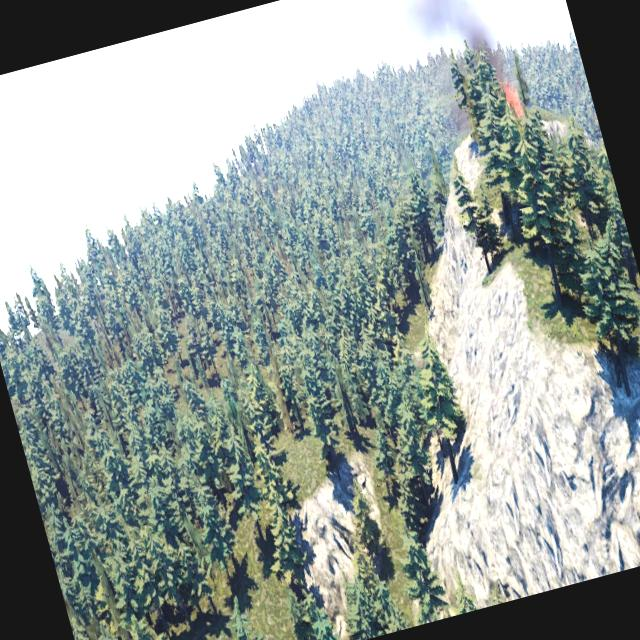fire: (504, 86, 526, 122)
smoke: (398, 0, 524, 120)
